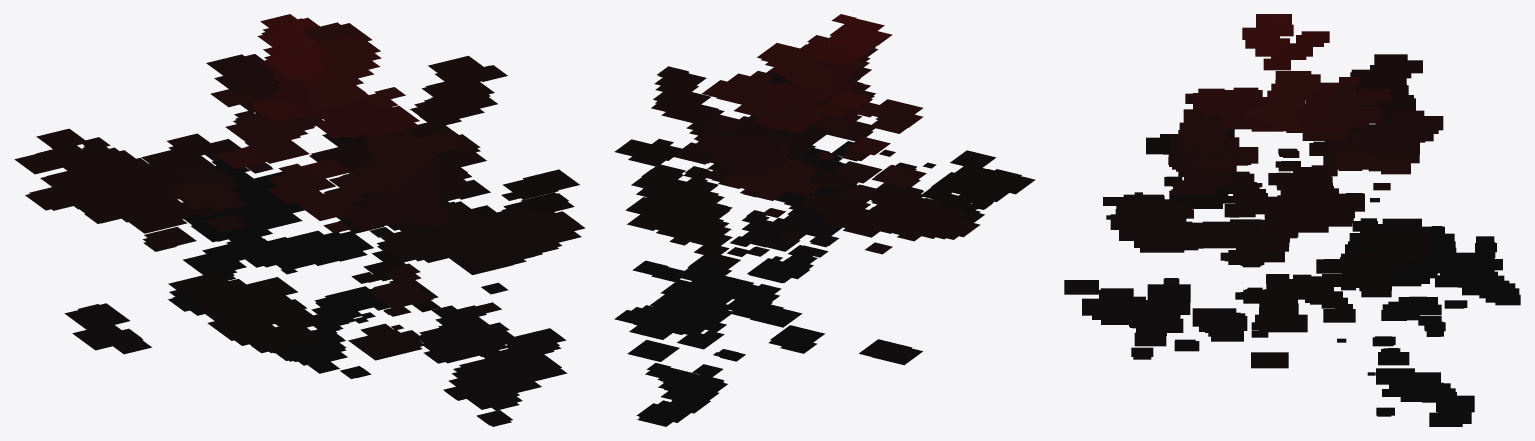
File: baked_canopy03.fbx
The picture shows the model from 3 angles, left to right: view 1: azimuth 30°, elevation 25°; view 2: azimuth 150°, elevation 25°; view 3: azimuth 270°, elevation 25°; orthographic projection. The views are drawn at different scales.
Parts seen in each view (by area): view 1: Baked canopy; view 2: Baked canopy; view 3: Baked canopy.
Part boxes in pixels (x1,y1,x2,y2): Baked canopy: (14, 14, 585, 426); Baked canopy: (614, 14, 1035, 426); Baked canopy: (1064, 14, 1520, 426).
Bounding box in the file's own units: 39323 × 39998 × 33927.
